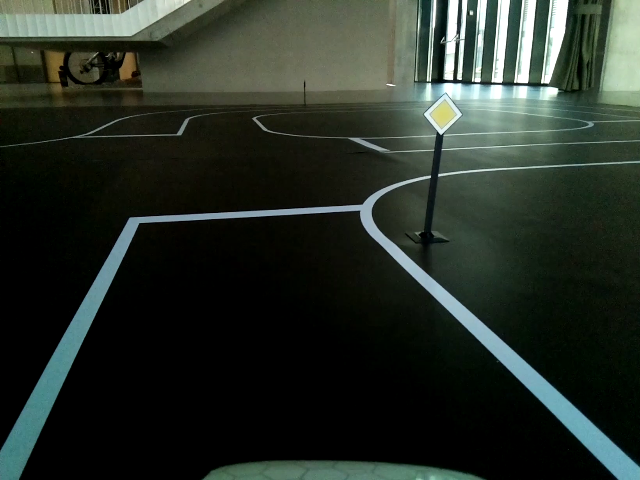priority: (422, 97, 467, 134)
